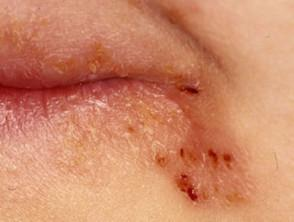Eczema: (134, 91, 184, 128), (83, 33, 113, 85), (168, 166, 206, 206), (205, 186, 261, 211), (168, 76, 207, 106), (107, 63, 157, 85), (203, 144, 242, 172), (53, 45, 78, 82), (20, 5, 58, 29), (15, 54, 46, 82), (71, 113, 97, 143), (119, 116, 145, 143), (78, 85, 111, 104), (171, 142, 195, 164), (152, 149, 173, 174)
